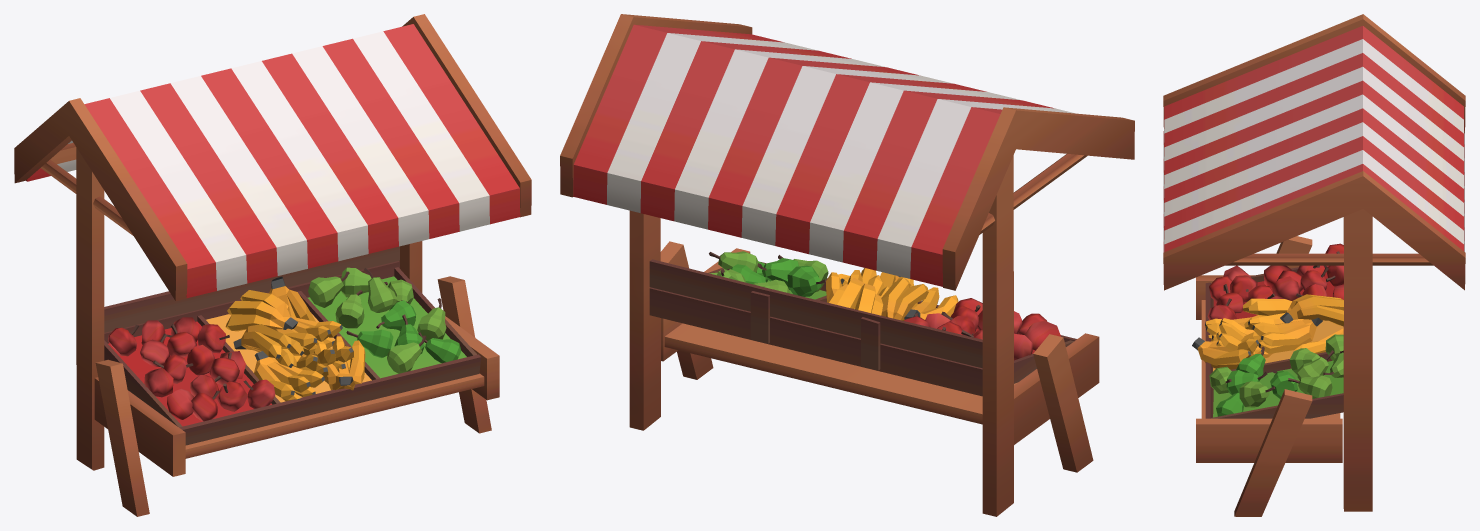
File: Fruit Cart.fbx
The picture shows the model from 3 angles, left to right: view 1: azimuth 30°, elevation 25°; view 2: azimuth 150°, elevation 25°; view 3: azimuth 270°, elevation 25°; orthographic projection. The views are drawn at different scales.
Visible parts, largest first — view 1: Fruit_Cart; view 2: Fruit_Cart; view 3: Fruit_Cart.
Part boxes in pixels (x1,y1,x2,y2): Fruit_Cart: [14, 14, 531, 516]; Fruit_Cart: [560, 14, 1134, 516]; Fruit_Cart: [1163, 14, 1465, 516].
Bounding box in the file's own units: 261 × 256 × 205.
